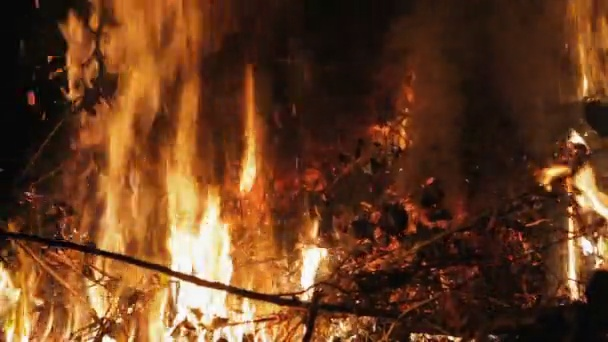fire: (1, 1, 266, 342), (540, 157, 608, 301), (295, 243, 329, 301), (568, 130, 591, 151), (578, 45, 587, 95)
